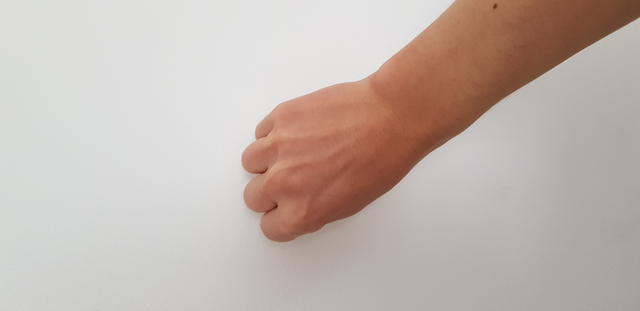Rock: (226, 71, 469, 244)
